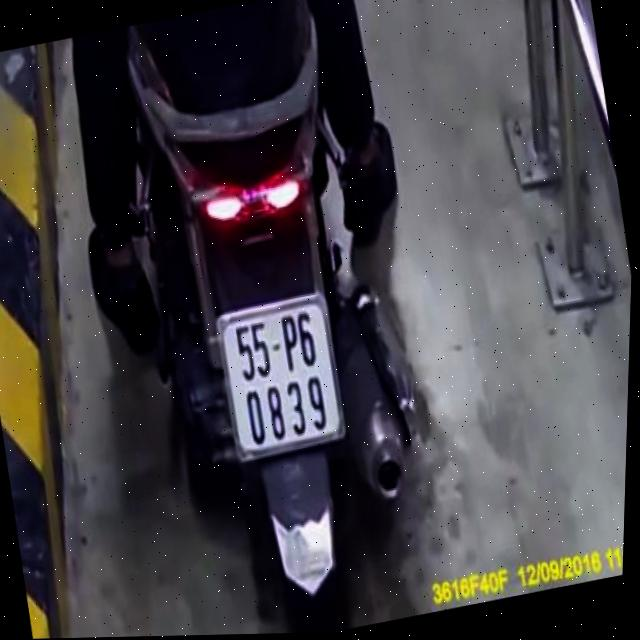motorcycle: (58, 0, 480, 638)
plate: (204, 285, 356, 463)
